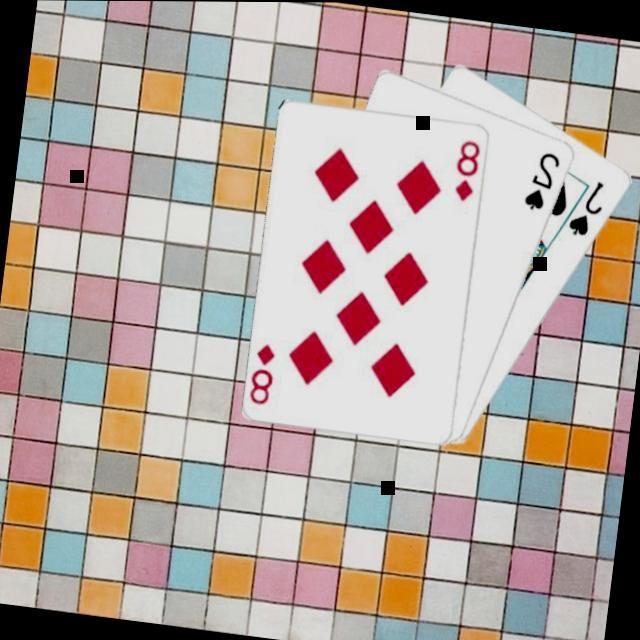2S: (522, 144, 566, 214)
8D: (451, 134, 486, 204), (249, 338, 283, 408)
JS: (565, 172, 611, 240)
